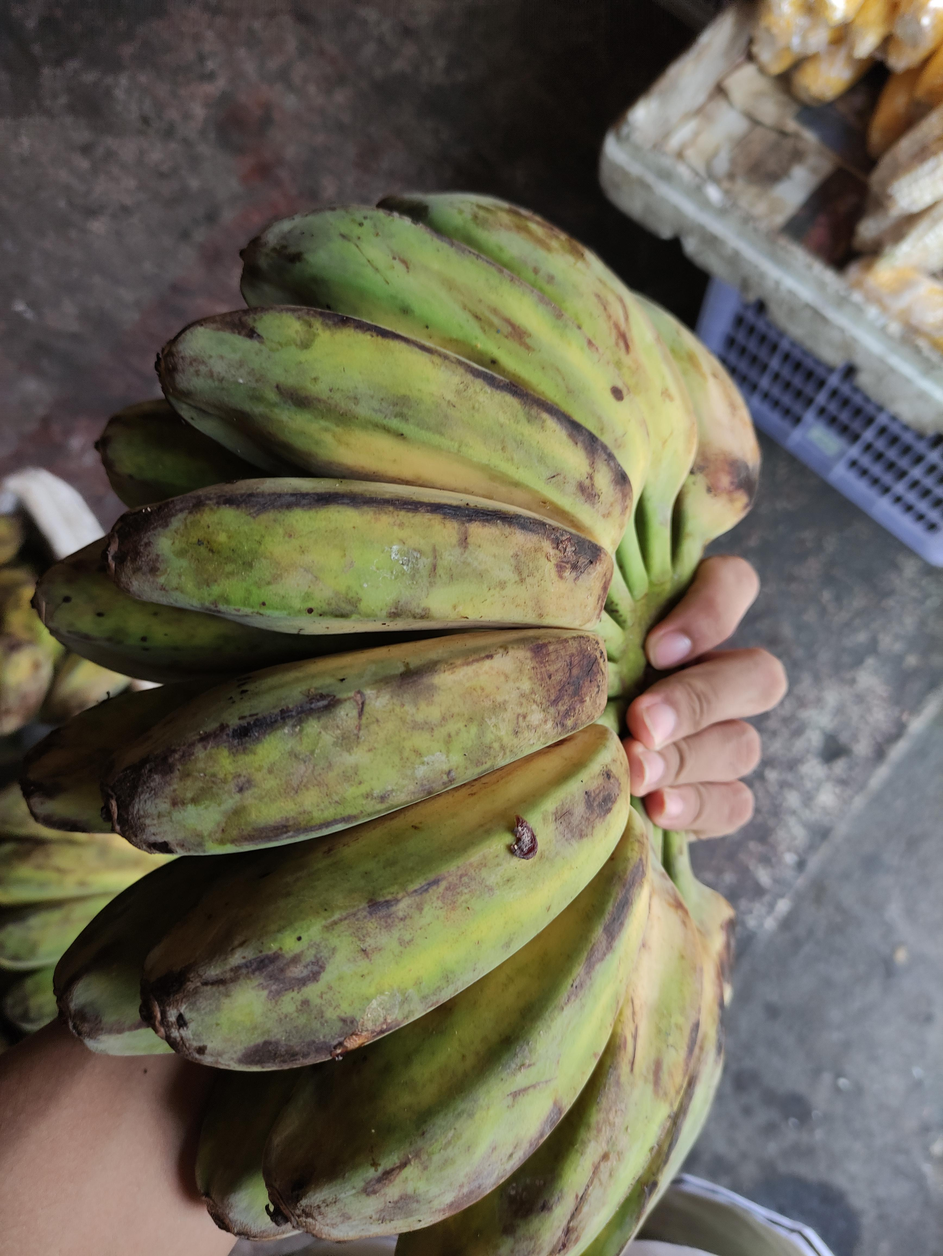underripe: (23, 194, 761, 1256)
